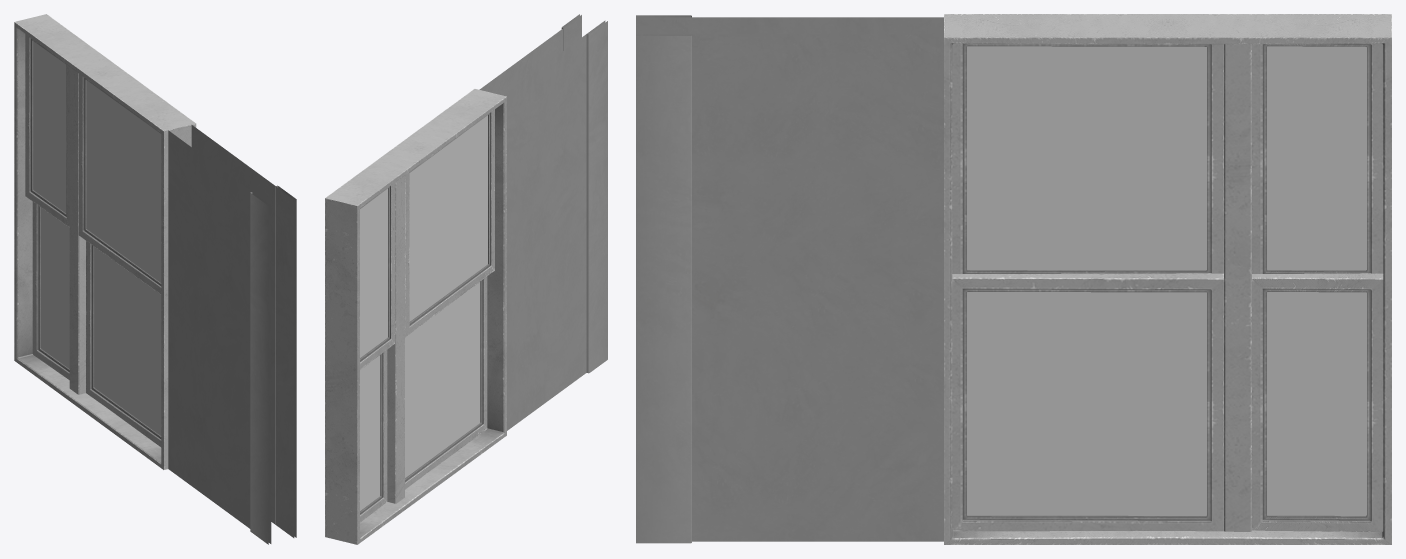
Rendered from Partition_Wall.fbx.
3 renders of one model, left to right at view 1: azimuth 30°, elevation 25°; view 2: azimuth 150°, elevation 25°; view 3: azimuth 270°, elevation 25°, orthographic. The views are drawn at different scales.
Visible parts, largest first — view 1: SM_Partition_02_Solid_LOD0; view 2: SM_Partition_02_Solid_LOD0; view 3: SM_Partition_02_Solid_LOD0.
Boxes of the visible parts, left/top/right/bottom form: SM_Partition_02_Solid_LOD0: left=14, top=14, right=296, bottom=544; SM_Partition_02_Solid_LOD0: left=325, top=14, right=607, bottom=544; SM_Partition_02_Solid_LOD0: left=636, top=14, right=1391, bottom=544.
Bounding box in the file's own units: 0.2 × 2 × 2.7.
